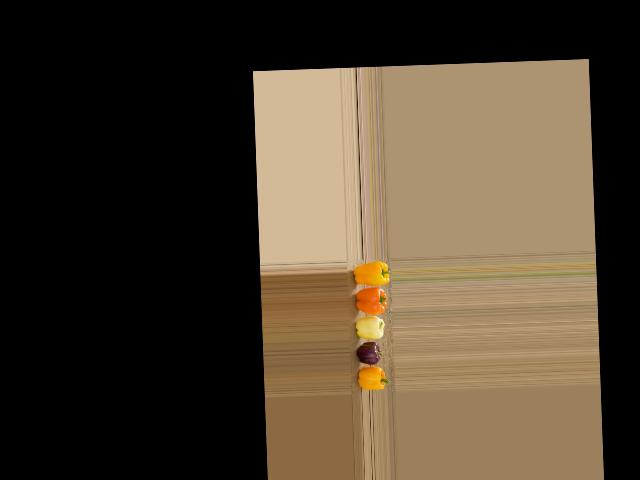bell_pepper: (351, 368, 391, 393)
